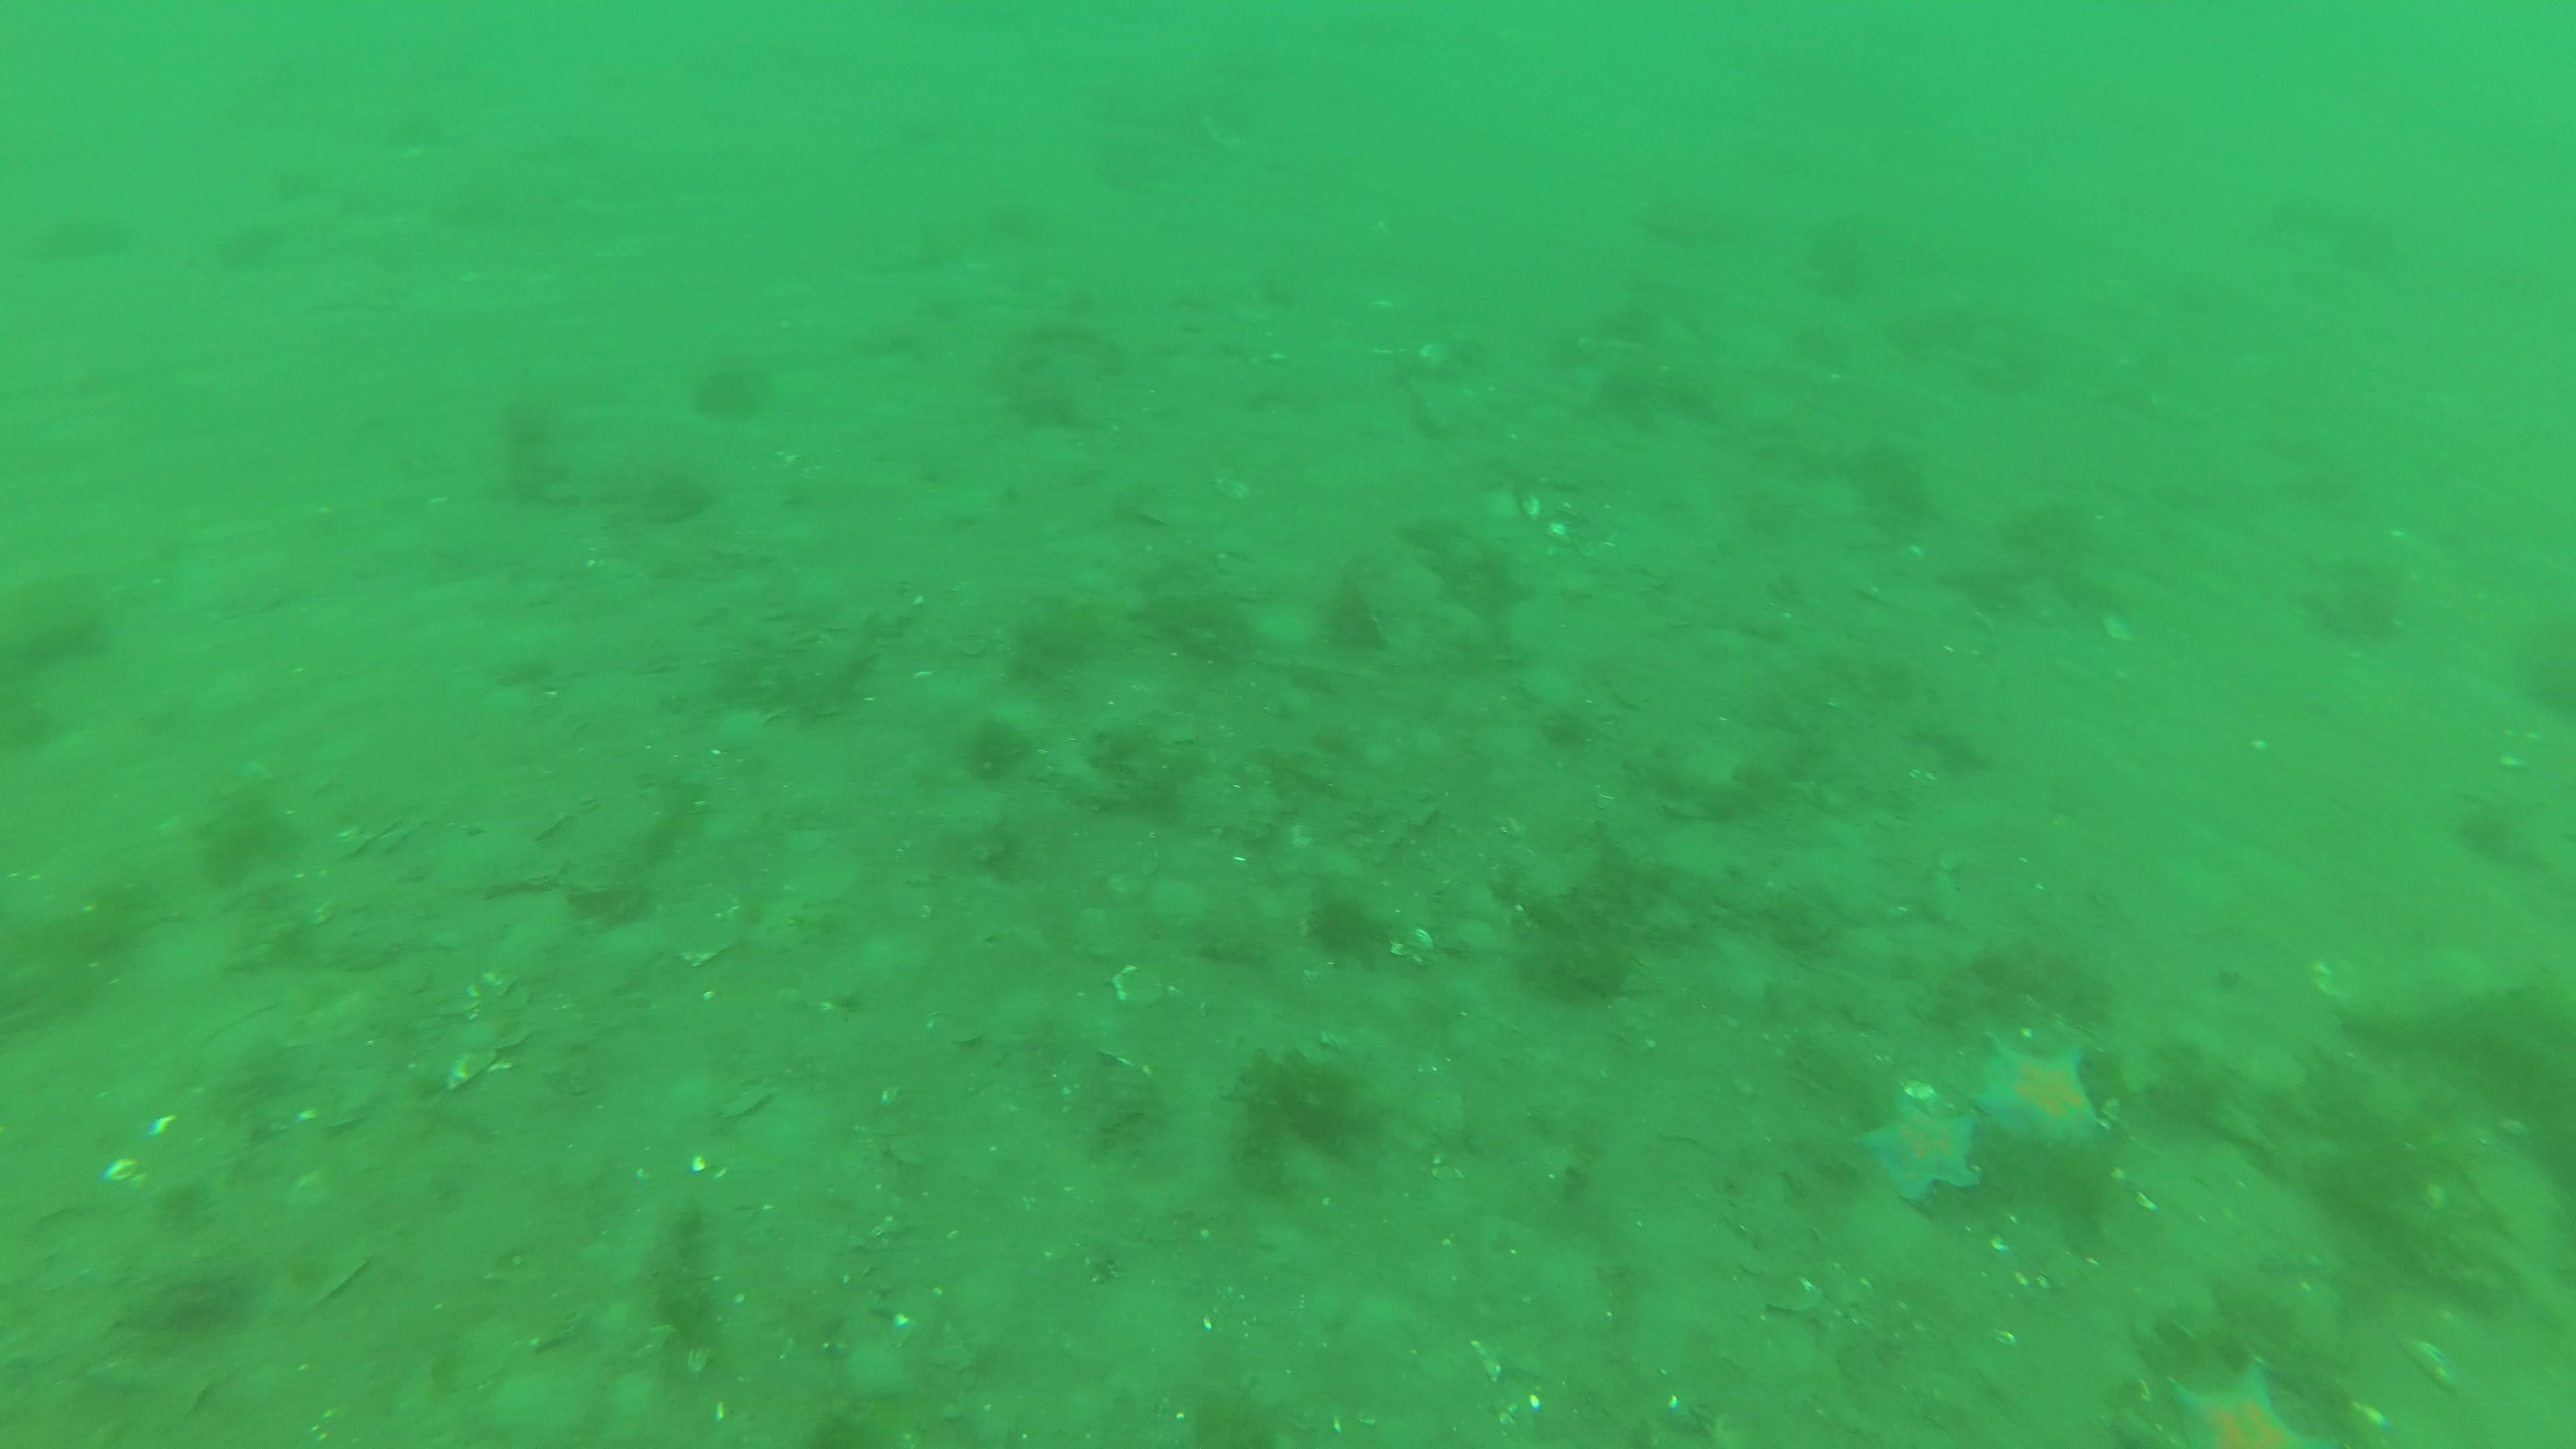starfish: (1973, 1035, 2102, 1146), (1858, 1095, 1982, 1201), (2164, 1361, 2307, 1449)
